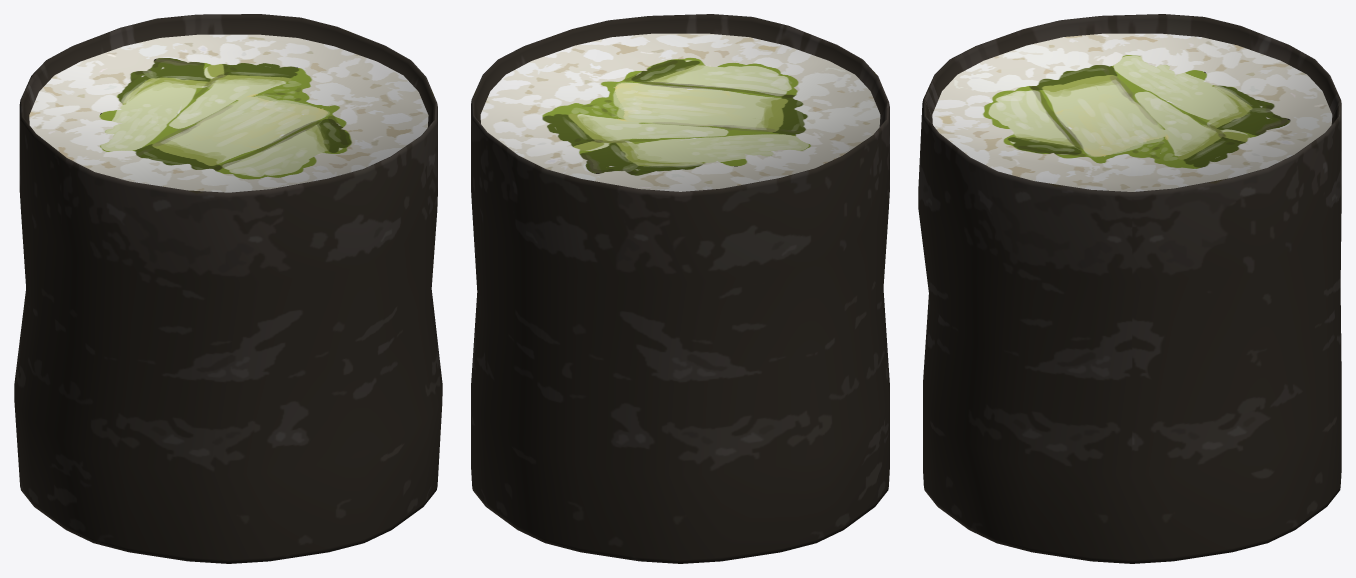
The model's file is Cucumber.fbx.
3 renders of one model, left to right at view 1: azimuth 30°, elevation 25°; view 2: azimuth 150°, elevation 25°; view 3: azimuth 270°, elevation 25°, orthographic.
Parts seen in each view (by area): view 1: Sushi_Cucumber; view 2: Sushi_Cucumber; view 3: Sushi_Cucumber.
Boxes of the visible parts, bbox=[...] form: Sushi_Cucumber: bbox=[14, 14, 442, 563]; Sushi_Cucumber: bbox=[471, 14, 889, 563]; Sushi_Cucumber: bbox=[918, 14, 1341, 563].
Bounding box in the file's own units: 0.4564 × 0.4558 × 0.4451.
